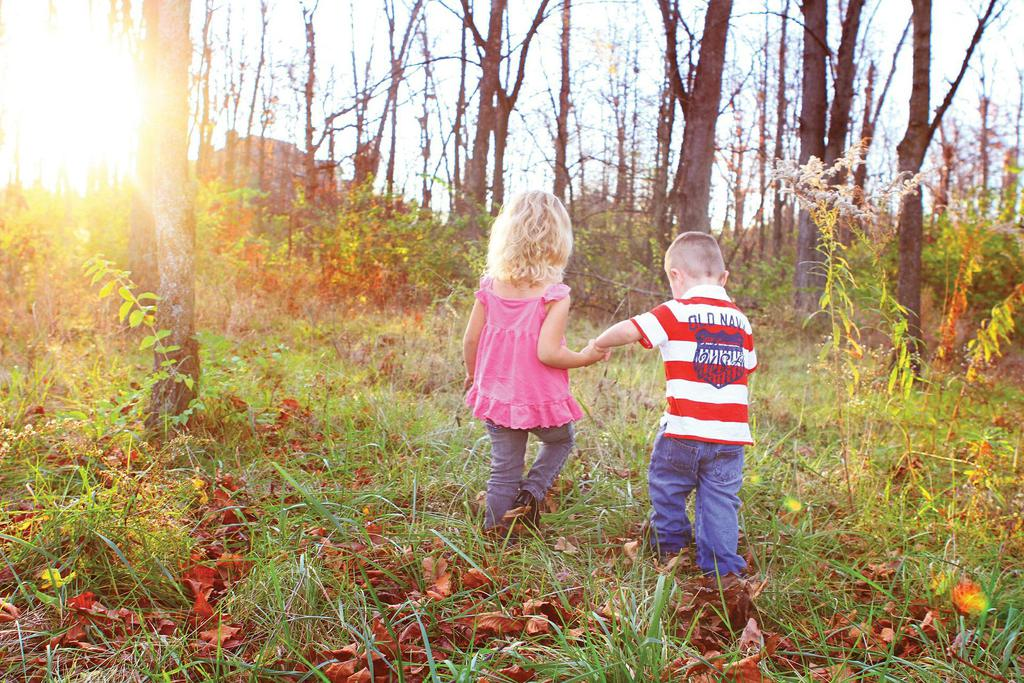child: (593, 225, 801, 586), (442, 171, 604, 524)
